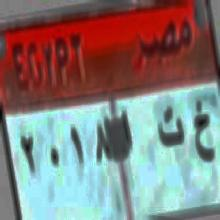0: (49, 132, 61, 180)
1: (69, 121, 86, 167)
2: (20, 132, 40, 178)
8: (92, 122, 110, 169)
alif: (120, 104, 136, 152)
khaa: (188, 95, 216, 170)
taa: (156, 102, 185, 154)
